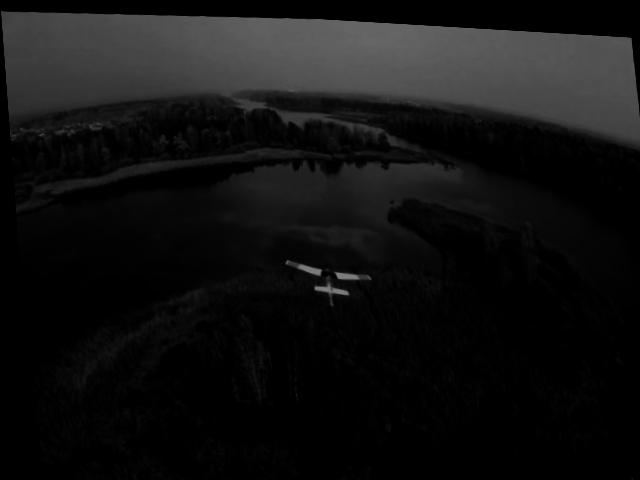hedef: (274, 247, 370, 310)
